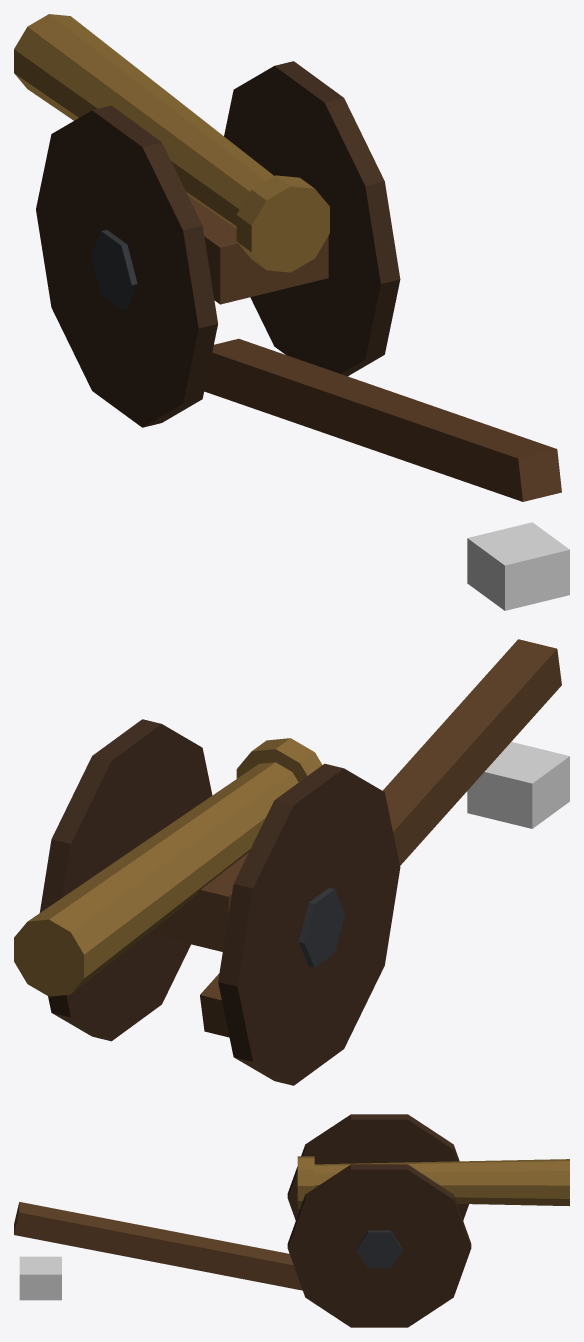
Rendered from art_cannon.glb.
3 renders of one model, top to bottom at view 1: azimuth 30°, elevation 25°; view 2: azimuth 150°, elevation 25°; view 3: azimuth 270°, elevation 25°, orthographic. The views are drawn at different scales.
Parts seen in each view (by area): view 1: art_cannon; view 2: art_cannon; view 3: art_cannon.
Part boxes in pixels (x1=…): art_cannon: x1=14, y1=14, x2=569, y2=610; art_cannon: x1=14, y1=639, x2=569, y2=1085; art_cannon: x1=14, y1=1114, x2=569, y2=1327.
Size of the model in its own units: 0.984 by 1.24 by 3.94.
